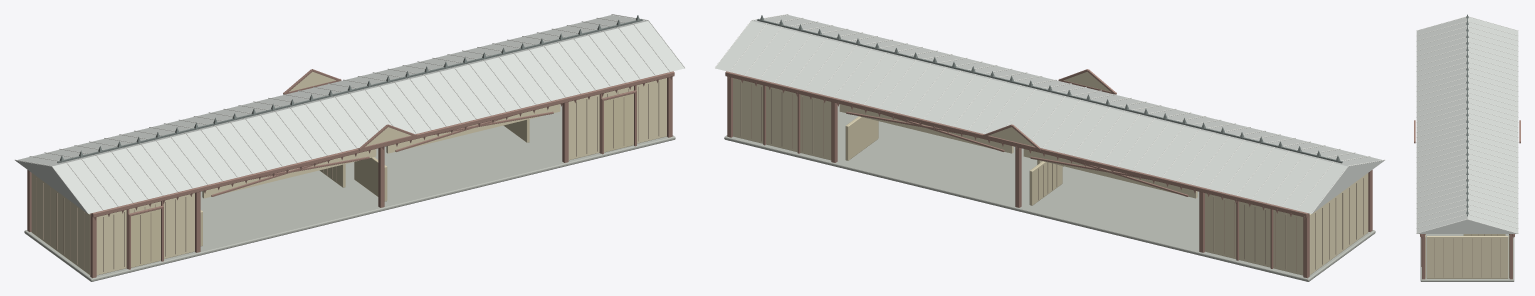
File: edinburgh-gardens-entrance-pavilion.glb
The picture shows the model from 3 angles, left to right: view 1: azimuth 30°, elevation 25°; view 2: azimuth 150°, elevation 25°; view 3: azimuth 270°, elevation 25°; orthographic projection. The views are drawn at different scales.
Visible parts, largest first — view 1: Corrugated galvanised gable roof, Concrete passage threshold, East front end-bay cladding, West front end-bay cladding, West V-jointed end wall, Front carved valance beam, East narrow V-jointed door, West narrow V-jointed door, Cast-iron ridge cresting rail, Front diagonal-board transom 02, Front diagonal-board transom 01, Open V-jointed passage gate leaf 03 (+3 smaller); view 2: Corrugated galvanised gable roof, Concrete passage threshold, East rear end-bay cladding, West rear end-bay cladding, West V-jointed end wall, Rear carved valance beam, Cast-iron ridge cresting rail, Open V-jointed passage gate leaf 02, Open V-jointed passage gate leaf 04, Rear diagonal-board transom 02, Rear diagonal-board transom 01, Stop-chamfered rear post 01 (+2 smaller); view 3: Corrugated galvanised gable roof, East V-jointed end wall, Concrete passage threshold, Stop-chamfered front post 05, Stop-chamfered rear post 05, Roof corrugation 06, Roof corrugation 35, Roof corrugation 41, Roof corrugation 02, Roof corrugation 04, Roof corrugation 07, Roof corrugation 08 (+36 smaller).
Part boxes in pixels (<box>): Corrugated galvanised gable roof: <box>15,15,684,213</box>; Concrete passage threshold: <box>24,104,675,281</box>; East front end-bay cladding: <box>568,78,666,160</box>; West front end-bay cladding: <box>96,193,194,275</box>; West V-jointed end wall: <box>31,173,90,274</box>; Front carved valance beam: <box>91,71,674,217</box>; East narrow V-jointed door: <box>604,93,633,152</box>; West narrow V-jointed door: <box>131,209,160,267</box>; Cast-iron ridge cresting rail: <box>57,19,642,163</box>; Front diagonal-board transom 02: <box>386,104,560,153</box>; Front diagonal-board transom 01: <box>202,149,376,198</box>; Open V-jointed passage gate leaf 03: <box>354,157,387,201</box>; Corrugated galvanised gable roof: <box>715,15,1384,213</box>; Concrete passage threshold: <box>724,104,1375,281</box>; East rear end-bay cladding: <box>733,78,831,160</box>; West rear end-bay cladding: <box>1205,193,1303,275</box>; West V-jointed end wall: <box>1309,173,1368,274</box>; Rear carved valance beam: <box>725,71,1308,217</box>; Cast-iron ridge cresting rail: <box>757,19,1342,163</box>; Open V-jointed passage gate leaf 02: <box>1029,161,1062,205</box>; Open V-jointed passage gate leaf 04: <box>845,116,878,160</box>; Rear diagonal-board transom 02: <box>839,104,1013,153</box>; Rear diagonal-board transom 01: <box>1023,149,1197,198</box>; Stop-chamfered rear post 01: <box>1303,213,1309,278</box>; Corrugated galvanised gable roof: <box>1416,17,1518,233</box>; East V-jointed end wall: <box>1426,236,1508,278</box>; Concrete passage threshold: <box>1420,234,1514,281</box>; Stop-chamfered front post 05: <box>1422,234,1425,279</box>; Stop-chamfered rear post 05: <box>1509,234,1512,279</box>; Roof corrugation 06: <box>1416,41,1518,56</box>; Roof corrugation 35: <box>1416,189,1518,203</box>; Roof corrugation 41: <box>1416,219,1518,233</box>; Roof corrugation 02: <box>1416,21,1518,35</box>; Roof corrugation 04: <box>1416,31,1518,46</box>; Roof corrugation 07: <box>1416,47,1518,61</box>; Roof corrugation 08: <box>1416,52,1518,66</box>.
Size of the model in its own units: 24.09 by 3.93 by 5.36.
